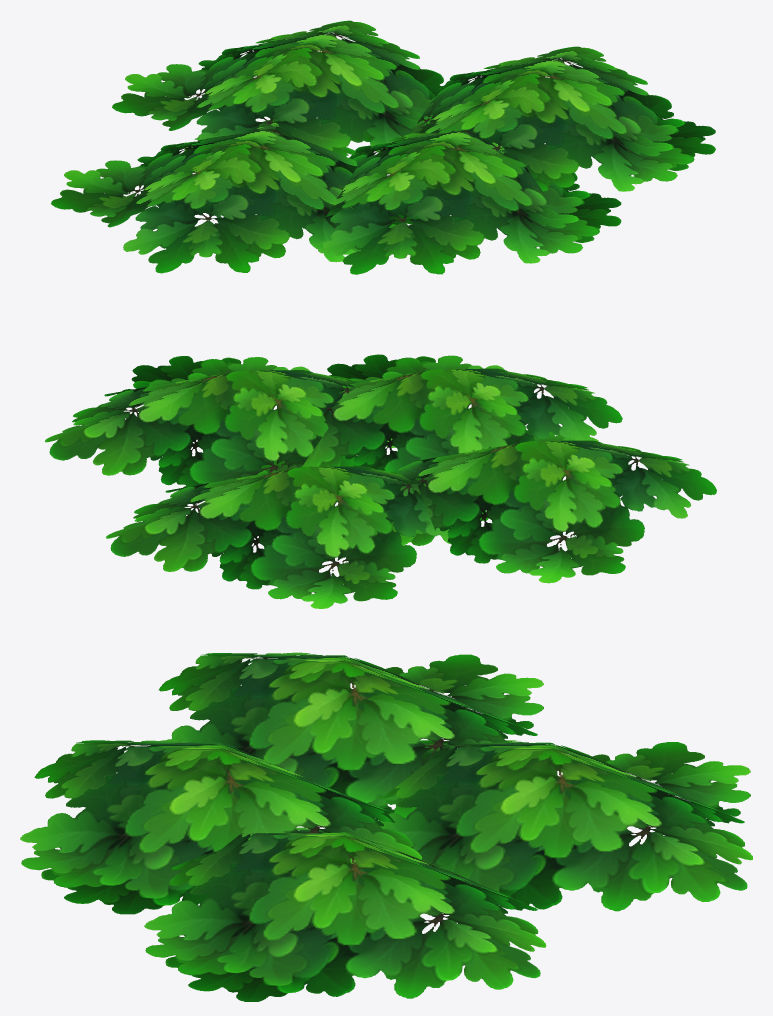
Rendered from PlantasBaixas.fbx.
3 renders of one model, top to bottom at view 1: azimuth 30°, elevation 25°; view 2: azimuth 150°, elevation 25°; view 3: azimuth 270°, elevation 25°, orthographic. The views are drawn at different scales.
Parts seen in each view (by area): view 1: PlantasBaixas; view 2: PlantasBaixas; view 3: PlantasBaixas.
Part boxes in pixels (x1,y1,x2,y2): PlantasBaixas: (51, 20, 715, 274); PlantasBaixas: (45, 354, 716, 608); PlantasBaixas: (20, 652, 752, 1001).
Bounding box in the file's own units: 100 × 10 × 90.
